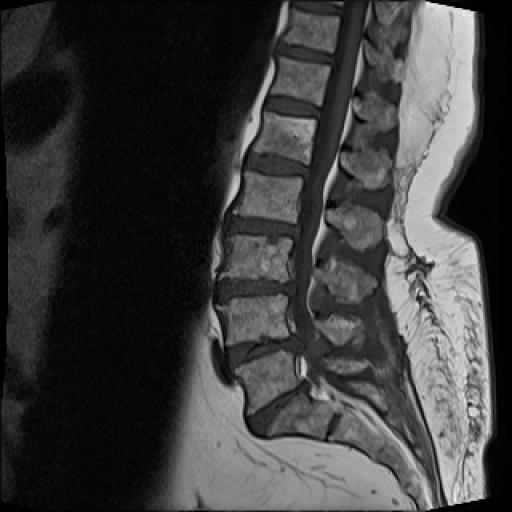L1: (253, 111, 317, 164)
L2: (234, 174, 300, 222)
L3: (222, 234, 293, 282)
L4: (222, 297, 288, 344)
L5: (235, 350, 300, 414)
S1: (263, 392, 334, 440)
